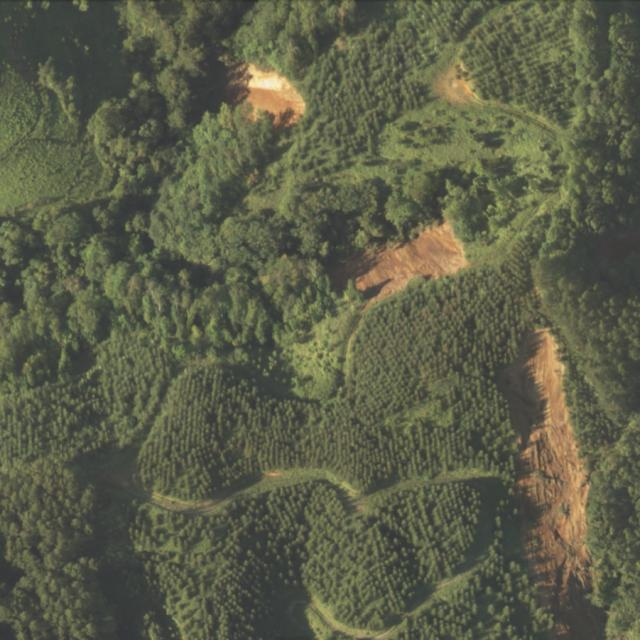landslide: (505, 328, 590, 589), (354, 222, 470, 309), (244, 63, 305, 123)
